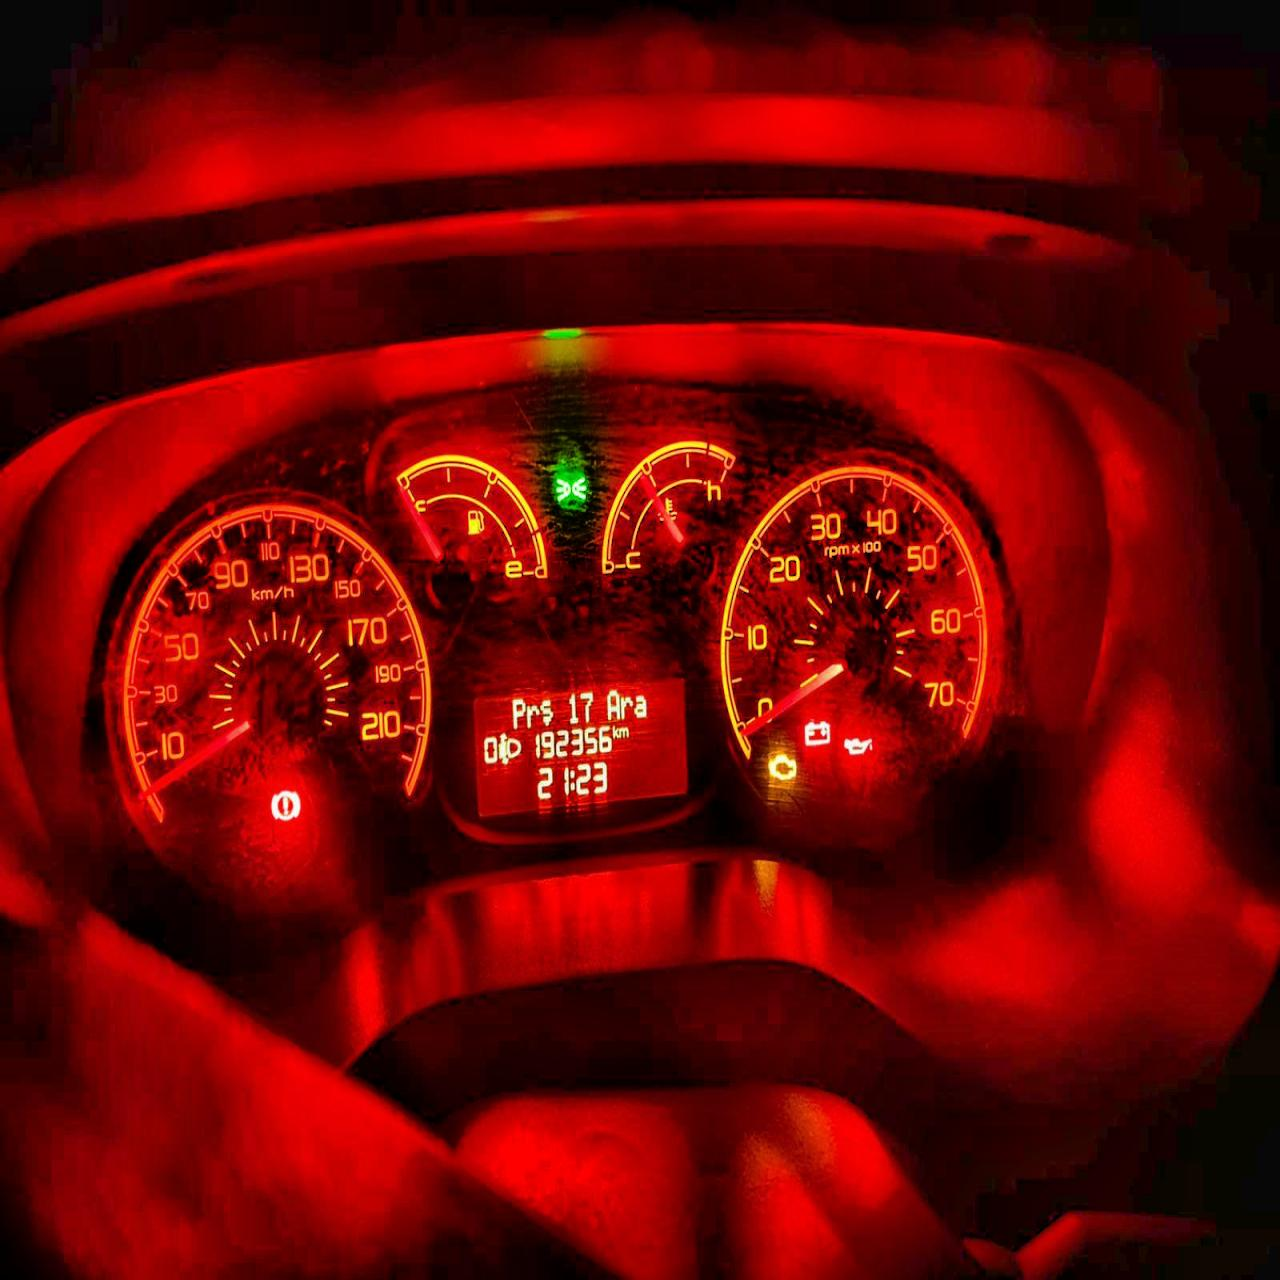0: (481, 735, 497, 762)
1: (565, 690, 579, 722), (558, 764, 570, 794), (533, 731, 542, 761)
2: (536, 764, 553, 802), (574, 763, 592, 795), (556, 729, 568, 758)
3: (591, 758, 608, 794), (570, 727, 584, 756)
5: (584, 726, 598, 753)
6: (598, 726, 611, 751)
7: (580, 690, 594, 723)
9: (542, 730, 554, 760)
X: (605, 687, 619, 721), (511, 696, 525, 730), (525, 700, 540, 730), (539, 697, 554, 727), (619, 692, 633, 722), (634, 693, 648, 720), (568, 768, 576, 791), (619, 724, 629, 738), (611, 724, 620, 738)
odometer: (475, 676, 699, 822)
